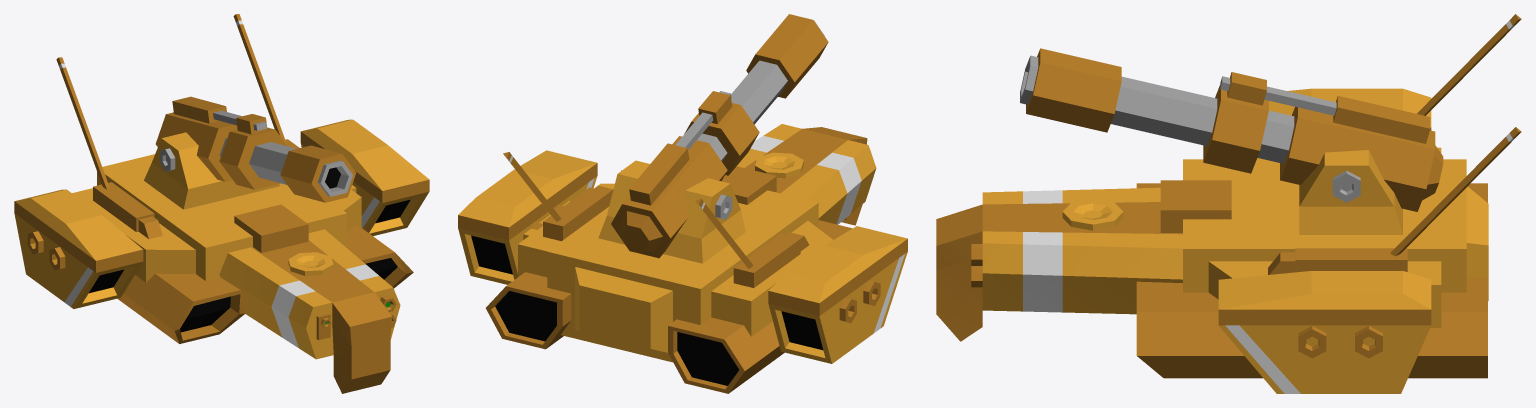
File: desert_artilleryEnemy_01.fbx
The picture shows the model from 3 angles, left to right: view 1: azimuth 30°, elevation 25°; view 2: azimuth 150°, elevation 25°; view 3: azimuth 270°, elevation 25°; orthographic projection. The views are drawn at different scales.
Parts seen in each view (by area): view 1: body, engine02, engine01, intake02, barrel_housing, barrel, gun_carriage, greeble03, intake01, greeble02, greeble012, greeble011 (+1 smaller); view 2: body, engine02, barrel_housing, engine01, intake02, barrel, gun_carriage, intake01, greeble02, greeble01, greeble03, greeble05 (+4 smaller); view 3: body, engine01, barrel_housing, intake01, barrel, gun_carriage, greeble03, greeble01, engine02, greeble05, greeble011, greeble012 (+3 smaller).
Boxes of the visible parts, x1,y1,x2,y2 form: body: (72, 154, 400, 393); engine02: (14, 189, 143, 308); engine01: (300, 119, 429, 235); intake02: (117, 273, 245, 343); barrel_housing: (155, 96, 287, 189); barrel: (219, 137, 355, 202); gun_carriage: (144, 132, 279, 209); greeble03: (234, 204, 308, 252); intake01: (346, 225, 413, 288); greeble02: (93, 182, 162, 239); greeble012: (56, 57, 109, 189); greeble011: (233, 14, 286, 143); body: (518, 124, 876, 362); engine02: (768, 226, 907, 363); barrel_housing: (611, 91, 759, 258); engine01: (458, 150, 597, 284); intake02: (668, 220, 852, 393); barrel: (697, 14, 828, 161); gun_carriage: (598, 160, 745, 263); intake01: (486, 272, 571, 349); greeble02: (733, 232, 809, 287); greeble01: (543, 185, 613, 241); greeble03: (722, 166, 776, 204); greeble05: (755, 152, 803, 178); body: (936, 147, 1488, 341); engine01: (1218, 271, 1431, 393); barrel_housing: (1203, 72, 1443, 211); intake01: (1136, 278, 1487, 378); barrel: (1020, 48, 1294, 163); gun_carriage: (1299, 150, 1402, 234); greeble03: (1160, 180, 1231, 232); greeble01: (1268, 248, 1407, 274); engine02: (1269, 88, 1431, 130); greeble05: (1062, 199, 1123, 230); greeble011: (1390, 127, 1521, 256); greeble012: (1417, 14, 1521, 115).
Size of the model in its own units: 5.74 by 3.35 by 6.48.
